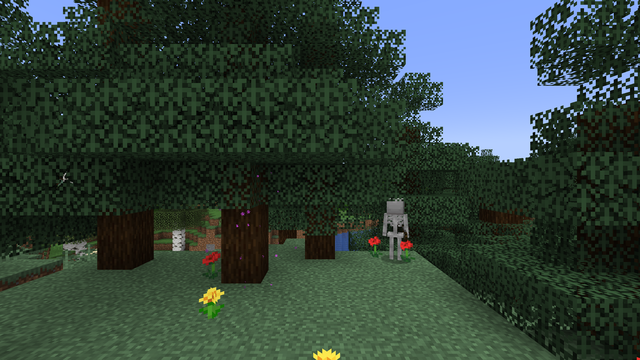squelettes: (384, 199, 407, 261)
